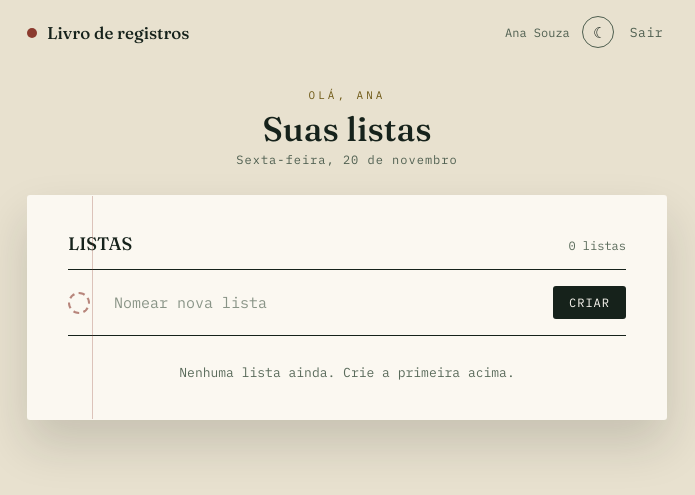
Scenario: ListsPage › não cria lista sem título
The width and height of the screenshot is (695, 495).
Click the button "Criar" at (590, 302), box [553,286,626,319]
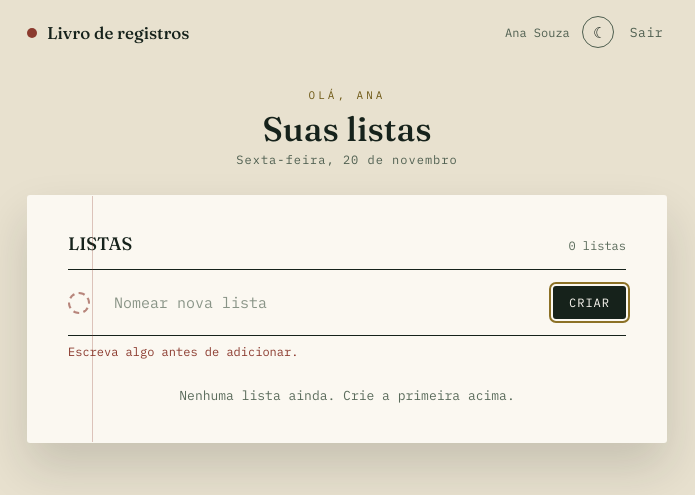
Expected: the message reads "Escreva algo antes de adicionar.", [68,344,298,359]
